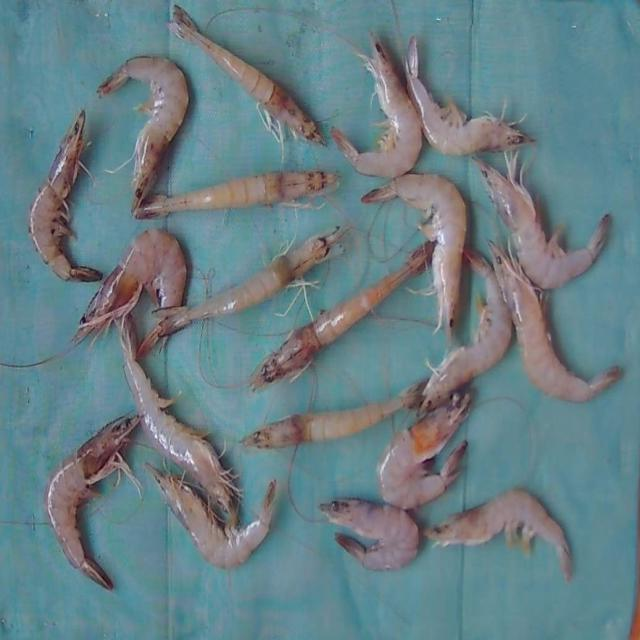shrimp: (137, 227, 349, 357), (248, 242, 434, 390), (115, 315, 239, 529), (167, 5, 325, 143), (492, 243, 622, 402), (474, 152, 610, 289), (362, 173, 467, 336), (44, 417, 138, 591), (405, 37, 534, 154), (422, 248, 512, 413), (96, 55, 188, 213), (145, 464, 275, 570), (424, 491, 572, 582), (330, 32, 422, 177), (72, 229, 186, 343), (28, 110, 101, 282), (242, 383, 426, 449), (377, 391, 472, 510), (135, 171, 338, 218), (320, 499, 419, 571)
